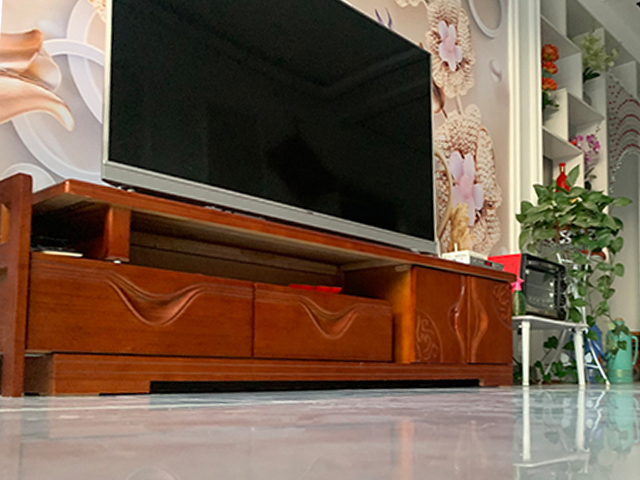cabinet: (1, 170, 517, 398)
table: (511, 314, 589, 391)
